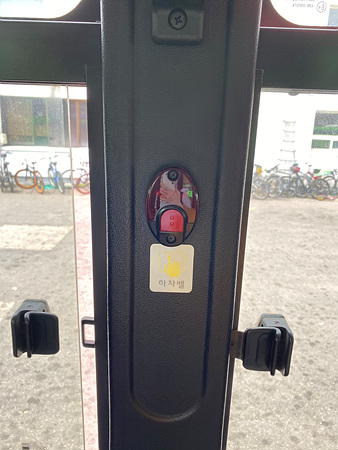bell: (145, 167, 199, 245)
